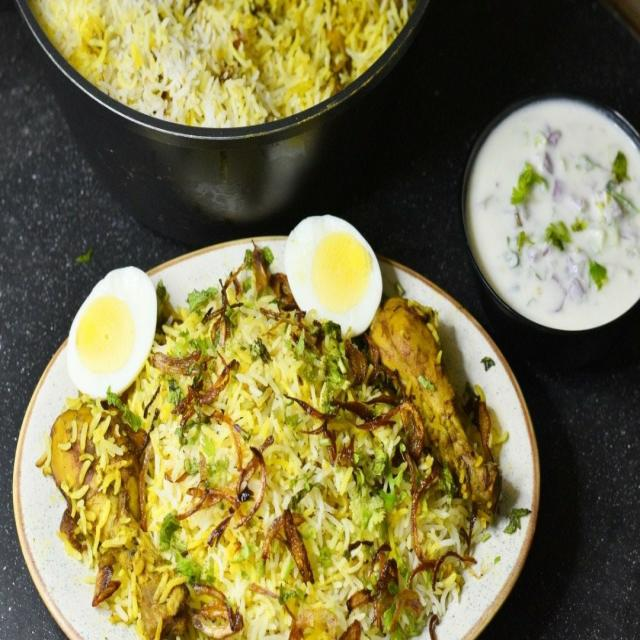Biryani: (40, 209, 504, 640)
